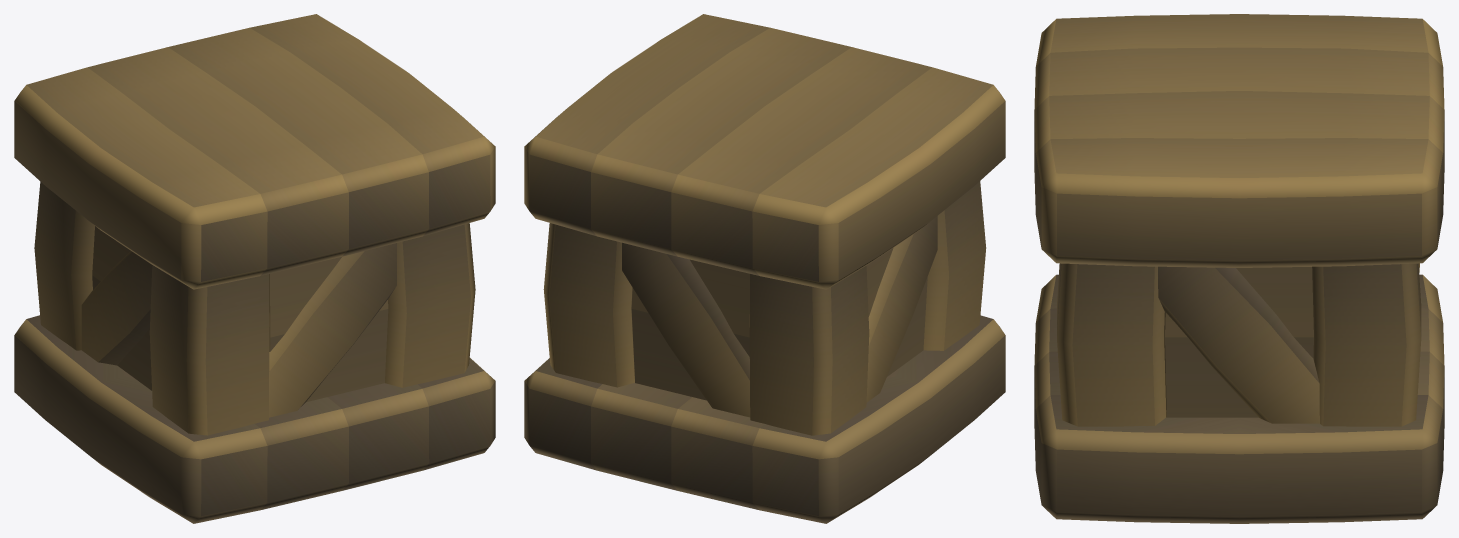
The model's file is box_wooden_1_destructible.fbx.
The picture shows the model from 3 angles, left to right: view 1: azimuth 30°, elevation 25°; view 2: azimuth 150°, elevation 25°; view 3: azimuth 270°, elevation 25°; orthographic projection. The views are drawn at different scales.
Parts seen in each view (by area): view 1: box_wooden_1_part3, box_wooden_1_part2, box_wooden_1_part6, box_wooden_1_part9, box_wooden_1_part1, box_wooden_1_part7; view 2: box_wooden_1_part3, box_wooden_1_part2, box_wooden_1_part7, box_wooden_1_part5, box_wooden_1_part8, box_wooden_1_part1, box_wooden_1_part6; view 3: box_wooden_1_part3, box_wooden_1_part2, box_wooden_1_part4, box_wooden_1_part9, box_wooden_1_part8.
Boxes of the visible parts, x1=… form: box_wooden_1_part3: x1=14, y1=14, x2=495, y2=289; box_wooden_1_part2: x1=14, y1=315, x2=495, y2=523; box_wooden_1_part6: x1=149, y1=243, x2=396, y2=435; box_wooden_1_part9: x1=385, y1=223, x2=475, y2=387; box_wooden_1_part1: x1=81, y1=226, x2=152, y2=390; box_wooden_1_part7: x1=34, y1=181, x2=94, y2=350; box_wooden_1_part3: x1=524, y1=14, x2=1005, y2=289; box_wooden_1_part2: x1=524, y1=315, x2=1005, y2=523; box_wooden_1_part7: x1=749, y1=265, x2=869, y2=435; box_wooden_1_part5: x1=622, y1=242, x2=750, y2=417; box_wooden_1_part8: x1=543, y1=223, x2=634, y2=387; box_wooden_1_part1: x1=866, y1=216, x2=937, y2=402; box_wooden_1_part6: x1=923, y1=181, x2=986, y2=350; box_wooden_1_part3: x1=1034, y1=14, x2=1444, y2=267; box_wooden_1_part2: x1=1034, y1=274, x2=1444, y2=523; box_wooden_1_part4: x1=1158, y1=266, x2=1319, y2=423; box_wooden_1_part9: x1=1057, y1=263, x2=1166, y2=426; box_wooden_1_part8: x1=1312, y1=263, x2=1421, y2=426.
Size of the model in its own units: 113 by 104 by 110.
